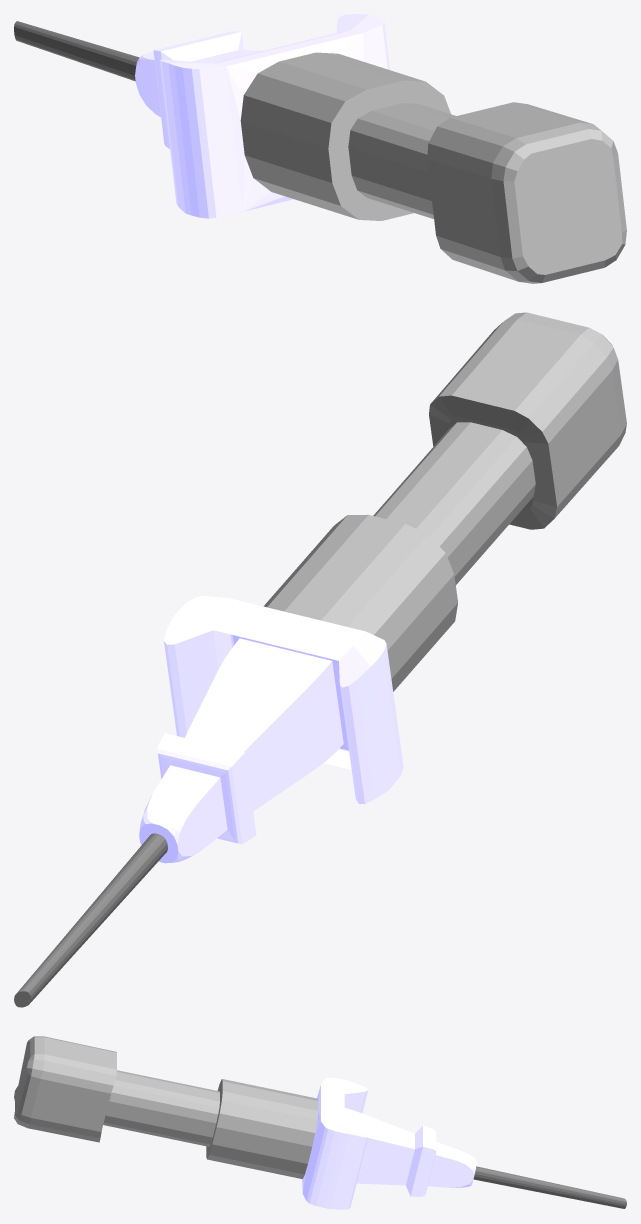
Rendered from cateter_arm.fbx.
The picture shows the model from 3 angles, top to bottom: view 1: azimuth 30°, elevation 25°; view 2: azimuth 150°, elevation 25°; view 3: azimuth 270°, elevation 25°; orthographic projection. The views are drawn at different scales.
Visible parts, largest first — view 1: Cateter_braço; view 2: Cateter_braço; view 3: Cateter_braço.
Part boxes in pixels (x1,y1,x2,y2): Cateter_braço: (14,14,626,283); Cateter_braço: (14,312,626,1007); Cateter_braço: (14,1036,626,1209).
Bounding box in the file's own units: 78.14 × 111 × 378.
